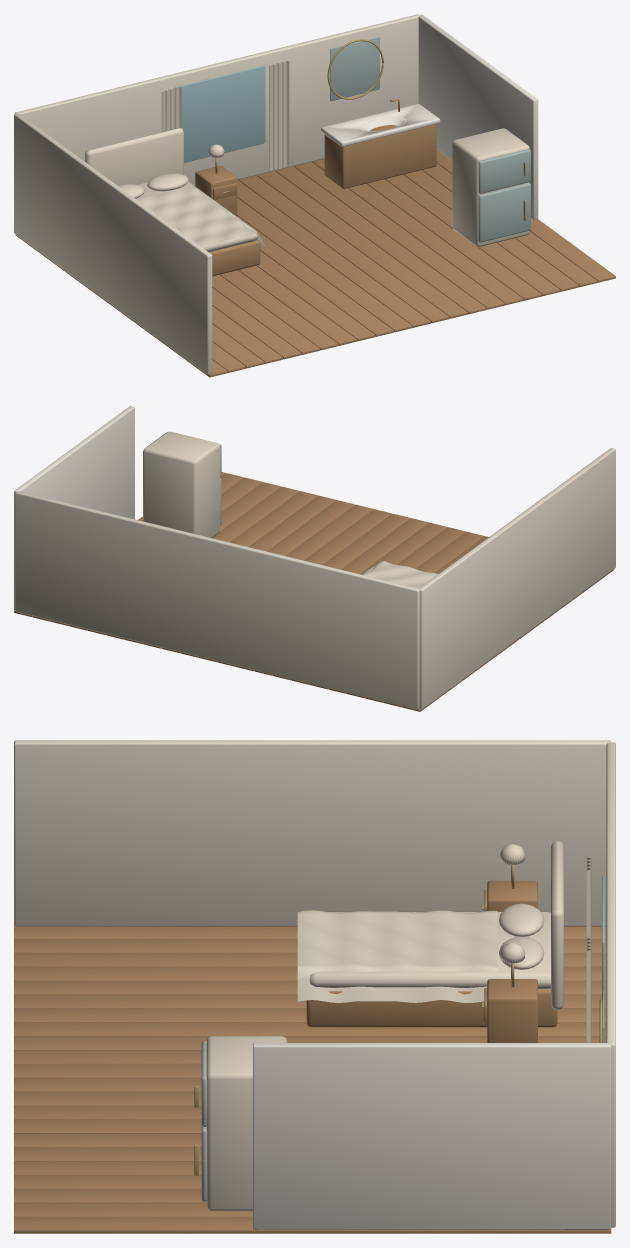
Rendered from house-room.glb.
The picture shows the model from 3 angles, top to bottom: view 1: azimuth 30°, elevation 25°; view 2: azimuth 150°, elevation 25°; view 3: azimuth 270°, elevation 25°; orthographic projection. The views are drawn at different scales.
Visible parts, largest first — view 1: SideWall, BackWall, BathroomWall, Window, Vanity, FridgeBody, UpholsteredHeadboard, Floorboard.012, Floorboard.014, Floorboard.013, DrapedQuilt, Floorboard.015 (+27 smaller); view 2: BackWall, SideWall, BathroomWall, FridgeBody, Floorboard.014, Floorboard.012, Floorboard.010, Floorboard.016, Floorboard.015, Floorboard.017, Floorboard.011, Floorboard.013 (+6 smaller); view 3: SideWall, BathroomWall, DrapedQuilt, FridgeBody, Floorboard.007, Floorboard.021, BedFrame, Floorboard.006, Floorboard.005, Floorboard.004, Mattress, Floorboard.008 (+22 smaller).
Part boxes in pixels (bbox=[...]): SideWall: bbox=[14, 113, 212, 374]; BackWall: bbox=[15, 14, 418, 185]; BathroomWall: bbox=[418, 14, 538, 219]; Window: bbox=[175, 65, 265, 162]; Vanity: bbox=[324, 124, 436, 188]; FridgeBody: bbox=[452, 128, 529, 246]; UpholsteredHeadboard: bbox=[85, 128, 183, 185]; Floorboard.012: bbox=[238, 175, 449, 323]; Floorboard.014: bbox=[275, 166, 486, 314]; Floorboard.013: bbox=[257, 171, 467, 318]; DrapedQuilt: bbox=[136, 186, 265, 246]; Floorboard.015: bbox=[294, 162, 504, 309]; BackWall: bbox=[15, 491, 419, 709]; SideWall: bbox=[419, 448, 615, 709]; BathroomWall: bbox=[14, 406, 134, 610]; FridgeBody: bbox=[143, 431, 220, 537]; Floorboard.014: bbox=[143, 500, 355, 648]; Floorboard.012: bbox=[180, 509, 392, 657]; Floorboard.010: bbox=[217, 518, 429, 666]; Floorboard.016: bbox=[106, 491, 318, 639]; Floorboard.015: bbox=[125, 495, 336, 644]; Floorboard.017: bbox=[88, 486, 299, 634]; Floorboard.011: bbox=[199, 513, 410, 662]; Floorboard.013: bbox=[162, 504, 373, 653]; SideWall: bbox=[14, 740, 610, 926]; BathroomWall: bbox=[253, 1043, 611, 1229]; DrapedQuilt: bbox=[297, 910, 497, 1002]; FridgeBody: bbox=[206, 1036, 287, 1211]; Floorboard.007: bbox=[14, 1022, 606, 1036]; Floorboard.021: bbox=[14, 1216, 611, 1233]; BedFrame: bbox=[306, 988, 557, 1027]; Floorboard.006: bbox=[14, 1008, 606, 1022]; Floorboard.005: bbox=[14, 994, 606, 1008]; Floorboard.004: bbox=[14, 980, 606, 994]; Mattress: bbox=[310, 911, 550, 988]; Floorboard.008: bbox=[14, 1036, 606, 1050].
Bounding box in the file's own units: 12.16 × 3.47 × 10.08.
